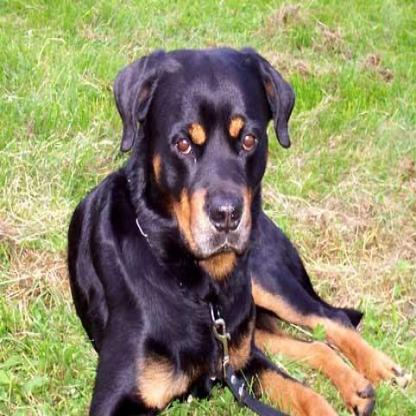Rottweiler: (67, 45, 409, 414)
